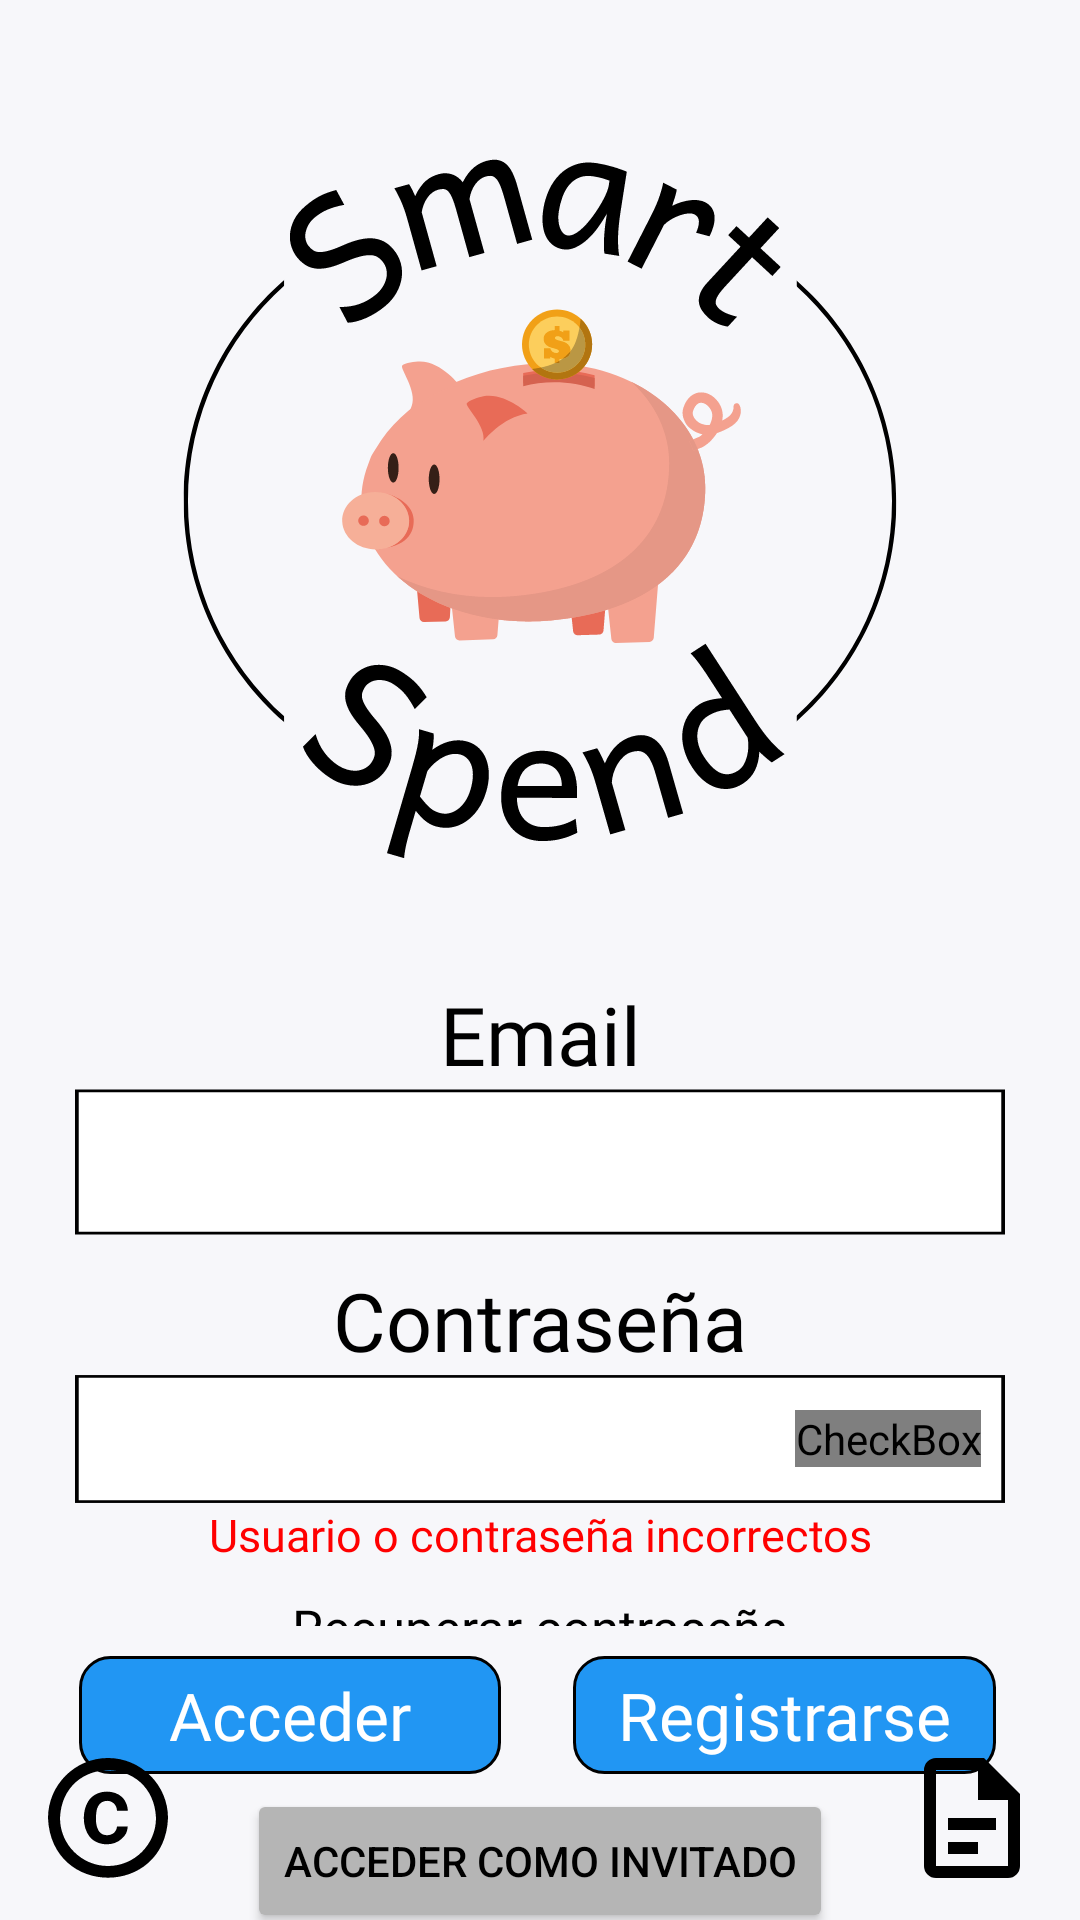

Icons on this 1080 × 1920 Android screen, each with its box as {"x1": x1, "y1": y1, "x2": x2, "y2": y2}:
condition of use: {"x1": 864, "y1": 1716, "x2": 1020, "y2": 1878}
copyright: {"x1": 48, "y1": 1716, "x2": 216, "y2": 1878}
